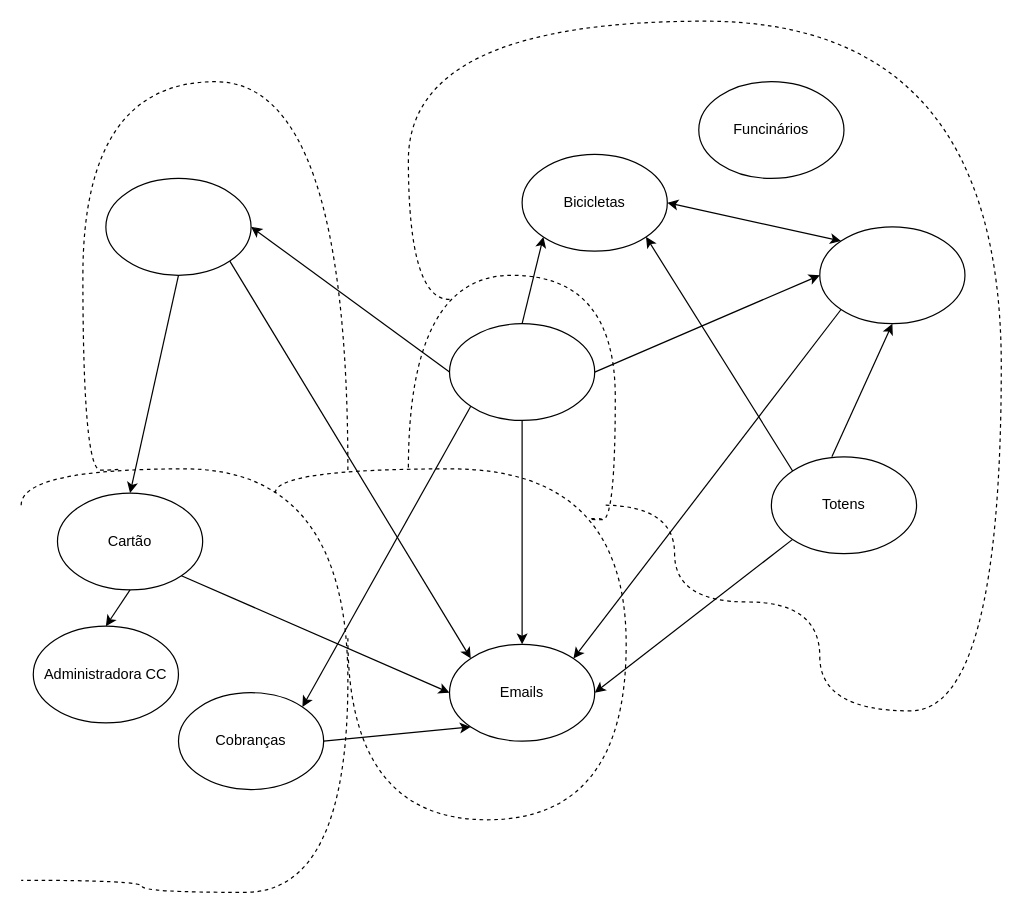
This 1022x914 diagram has some shape labels left out. The shapes that lost their labels are listed below. From the top down, each one's box as (x1, y1, x2, y2) in pixels, then its label:
(105, 177, 251, 275): Ciclista
(819, 226, 965, 324): Trancas
(448, 322, 595, 420): Aluguel
